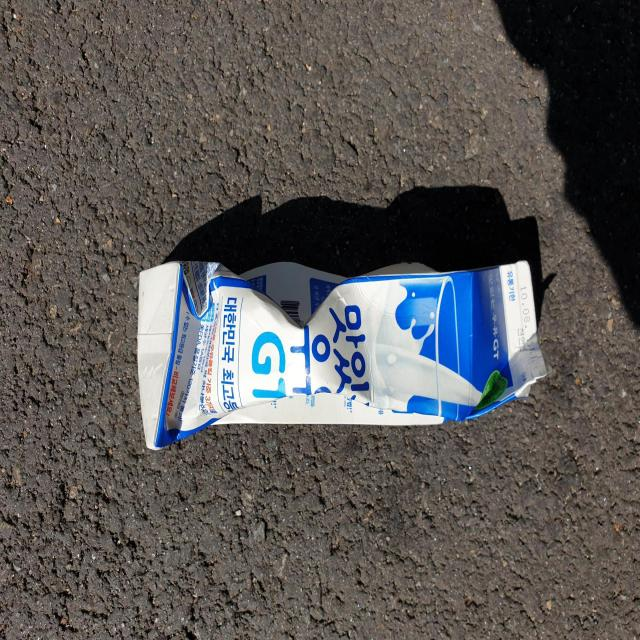paperpack: (137, 261, 547, 450)
